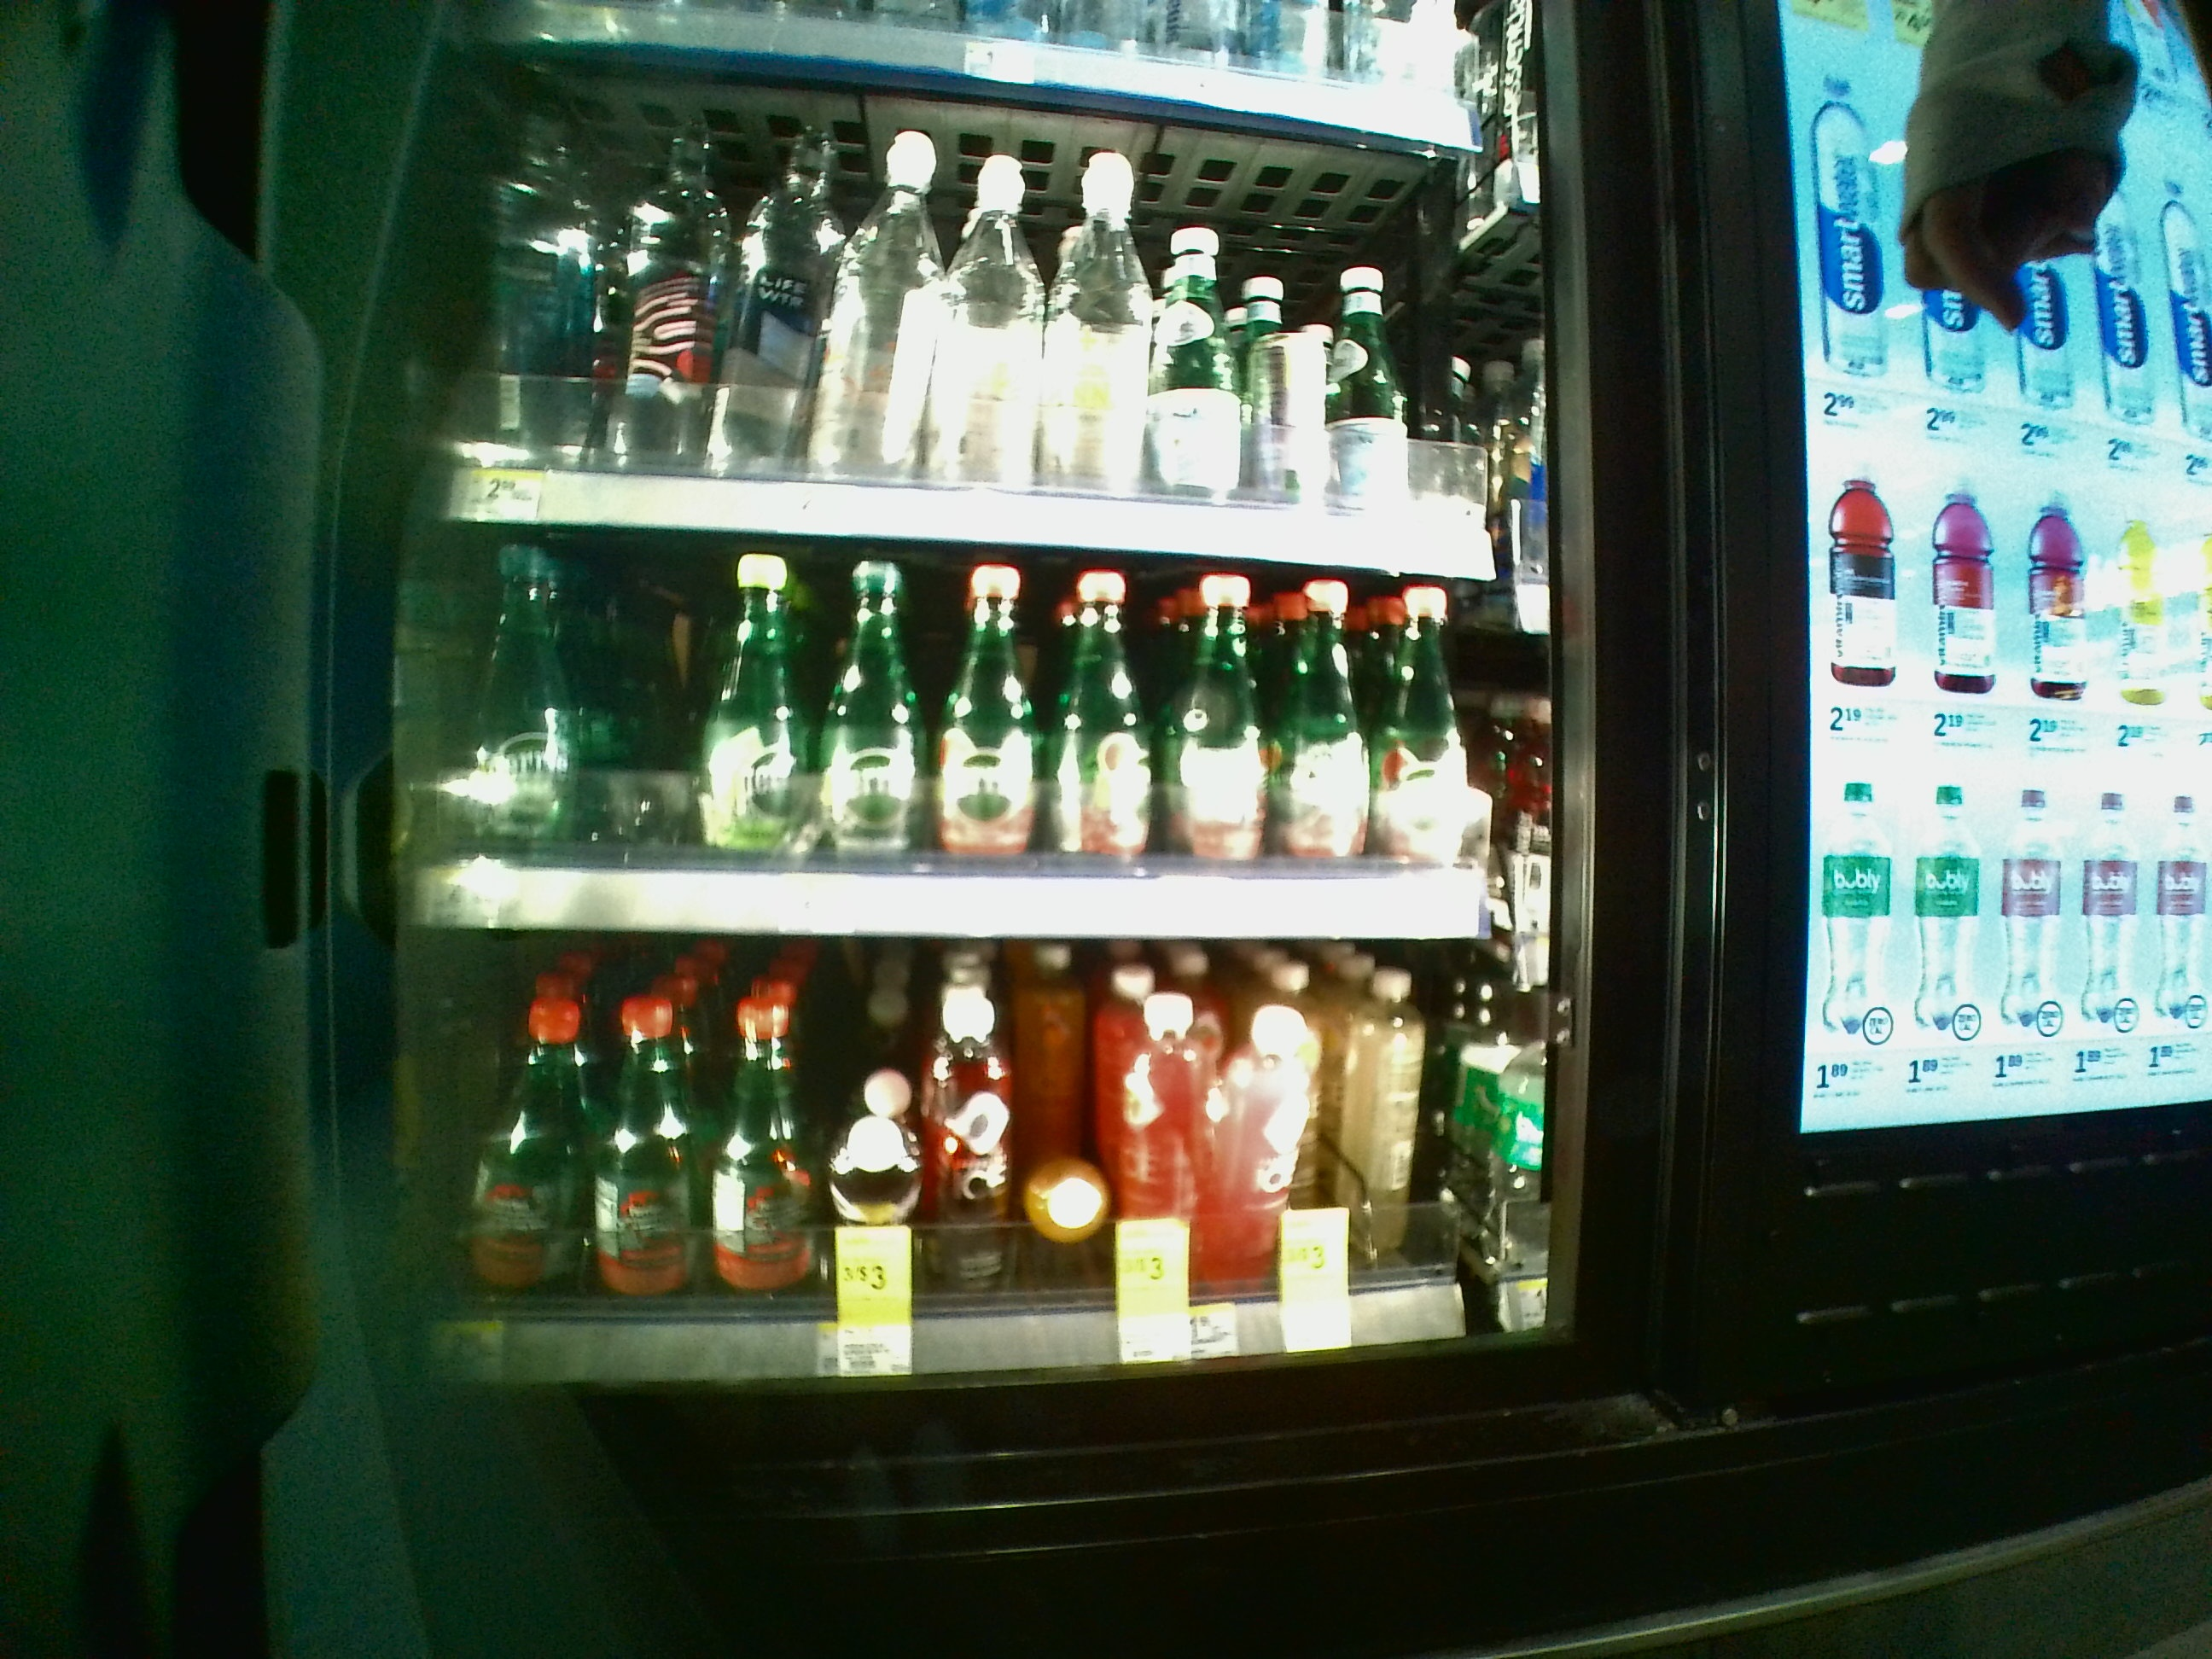Shelf: (404, 948, 1569, 1399), (404, 528, 1559, 945)
